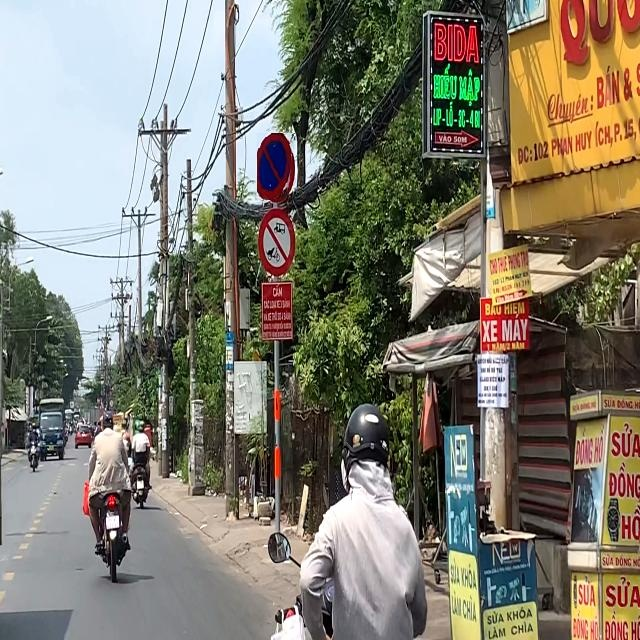bien_cam: (257, 133, 295, 202)
